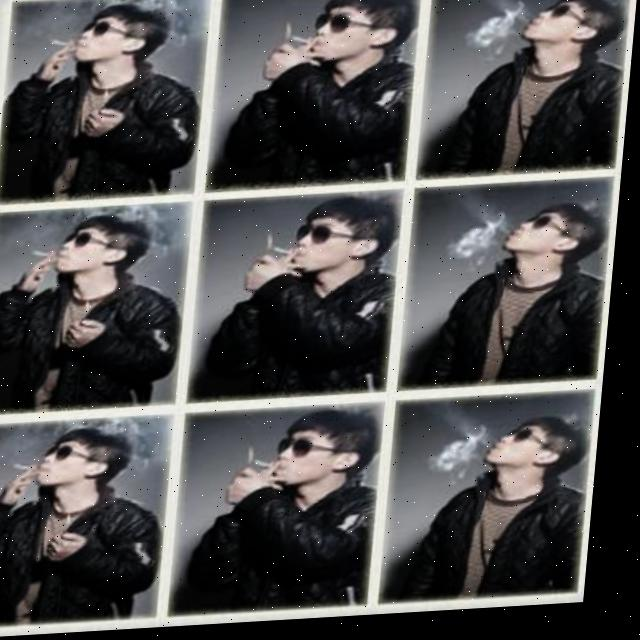cigarette: (18, 460, 45, 474), (34, 246, 56, 260), (49, 37, 74, 49), (262, 461, 280, 477), (290, 38, 310, 52), (277, 247, 296, 259)
